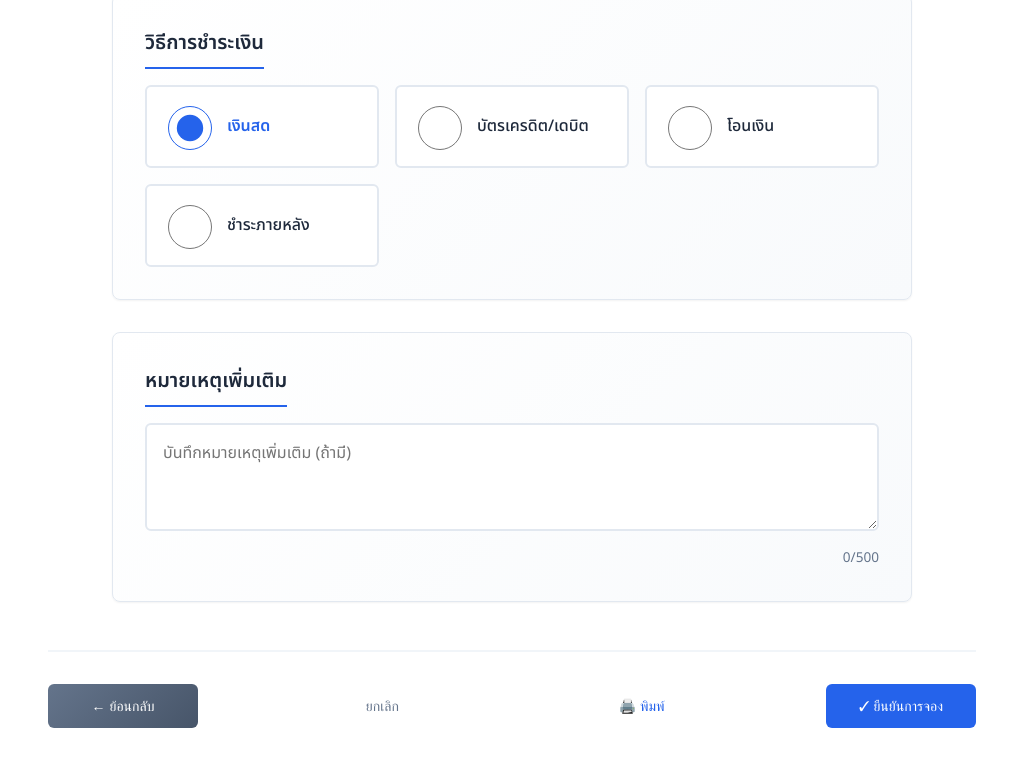
Test case: BookingConfirmation › Notes Functionality › updates character count when typing notes
(page scrolled)
Expected: the text "0/500" is shown, [843, 548, 879, 568]
Type "Test note" into the text box with placeholder "บันทึกหมายเหตุเพิ่มเติม (ถ้ามี)" at point(512, 477), box [145, 423, 879, 531]
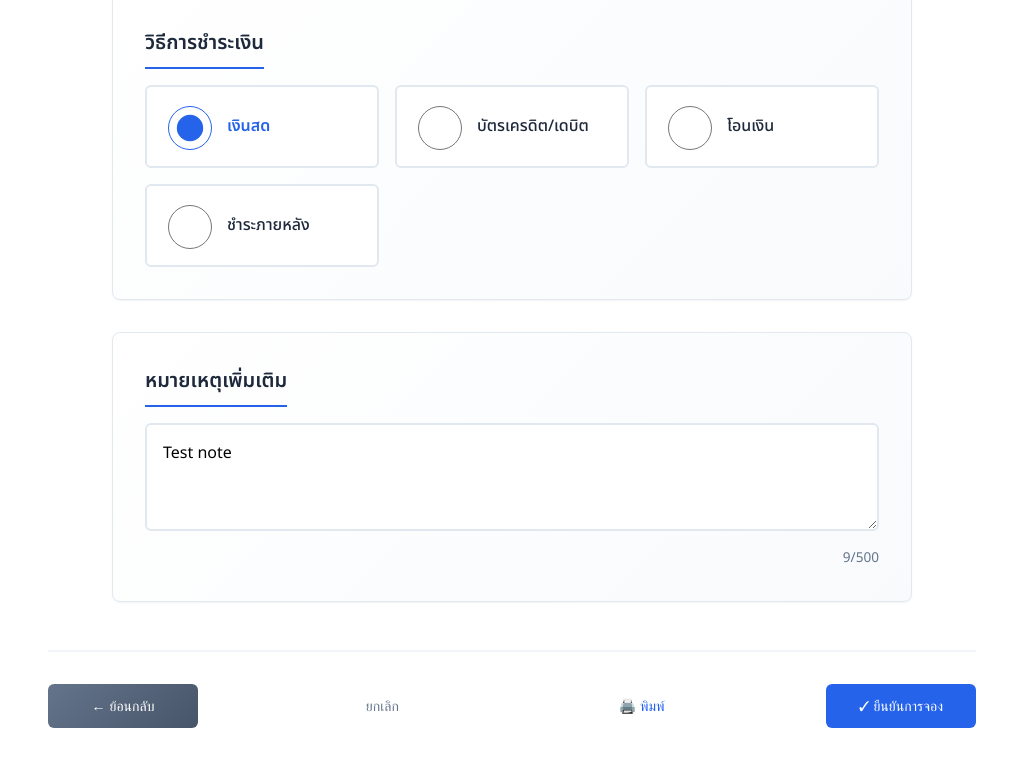
Now the text "9/500" is shown, box [843, 548, 879, 568]
